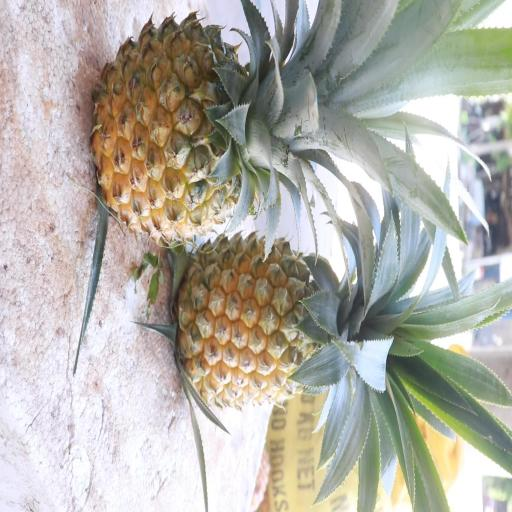Pineapple - v8 v1: (86, 6, 332, 252), (182, 230, 398, 420)
